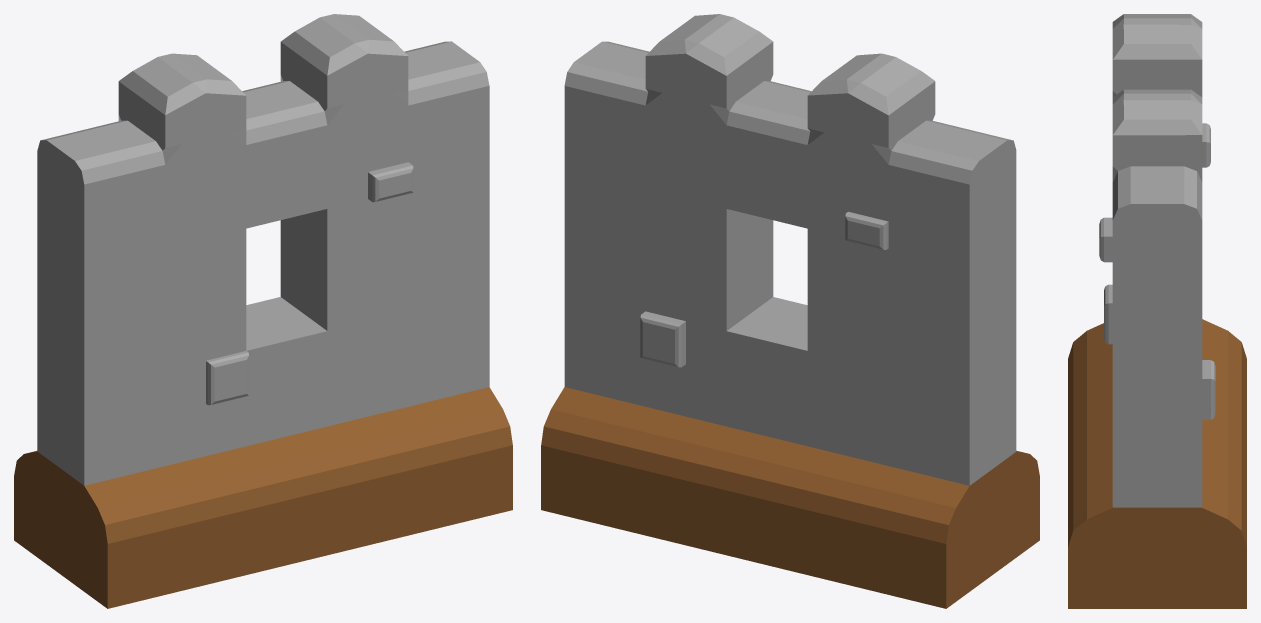
File: wallWindowed.fbx
3 views of the same model, side by side, from view 1: azimuth 30°, elevation 25°; view 2: azimuth 150°, elevation 25°; view 3: azimuth 270°, elevation 25° (orthographic). The views are drawn at different scales.
Visible parts, largest first — view 1: windowedWall; view 2: windowedWall; view 3: windowedWall.
Boxes of the visible parts, x1,y1,x2,y2 form: windowedWall: (14, 14, 512, 608); windowedWall: (541, 14, 1039, 608); windowedWall: (1068, 14, 1246, 608).
Bounding box in the file's own units: 100 × 112 × 40.
